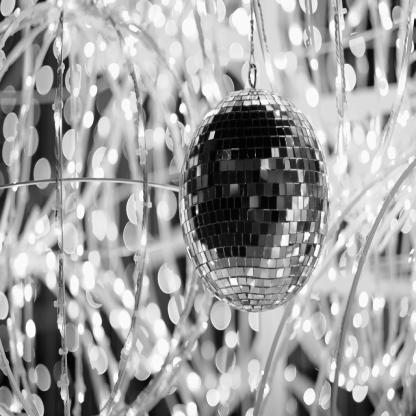Ball: (178, 64, 330, 310)
